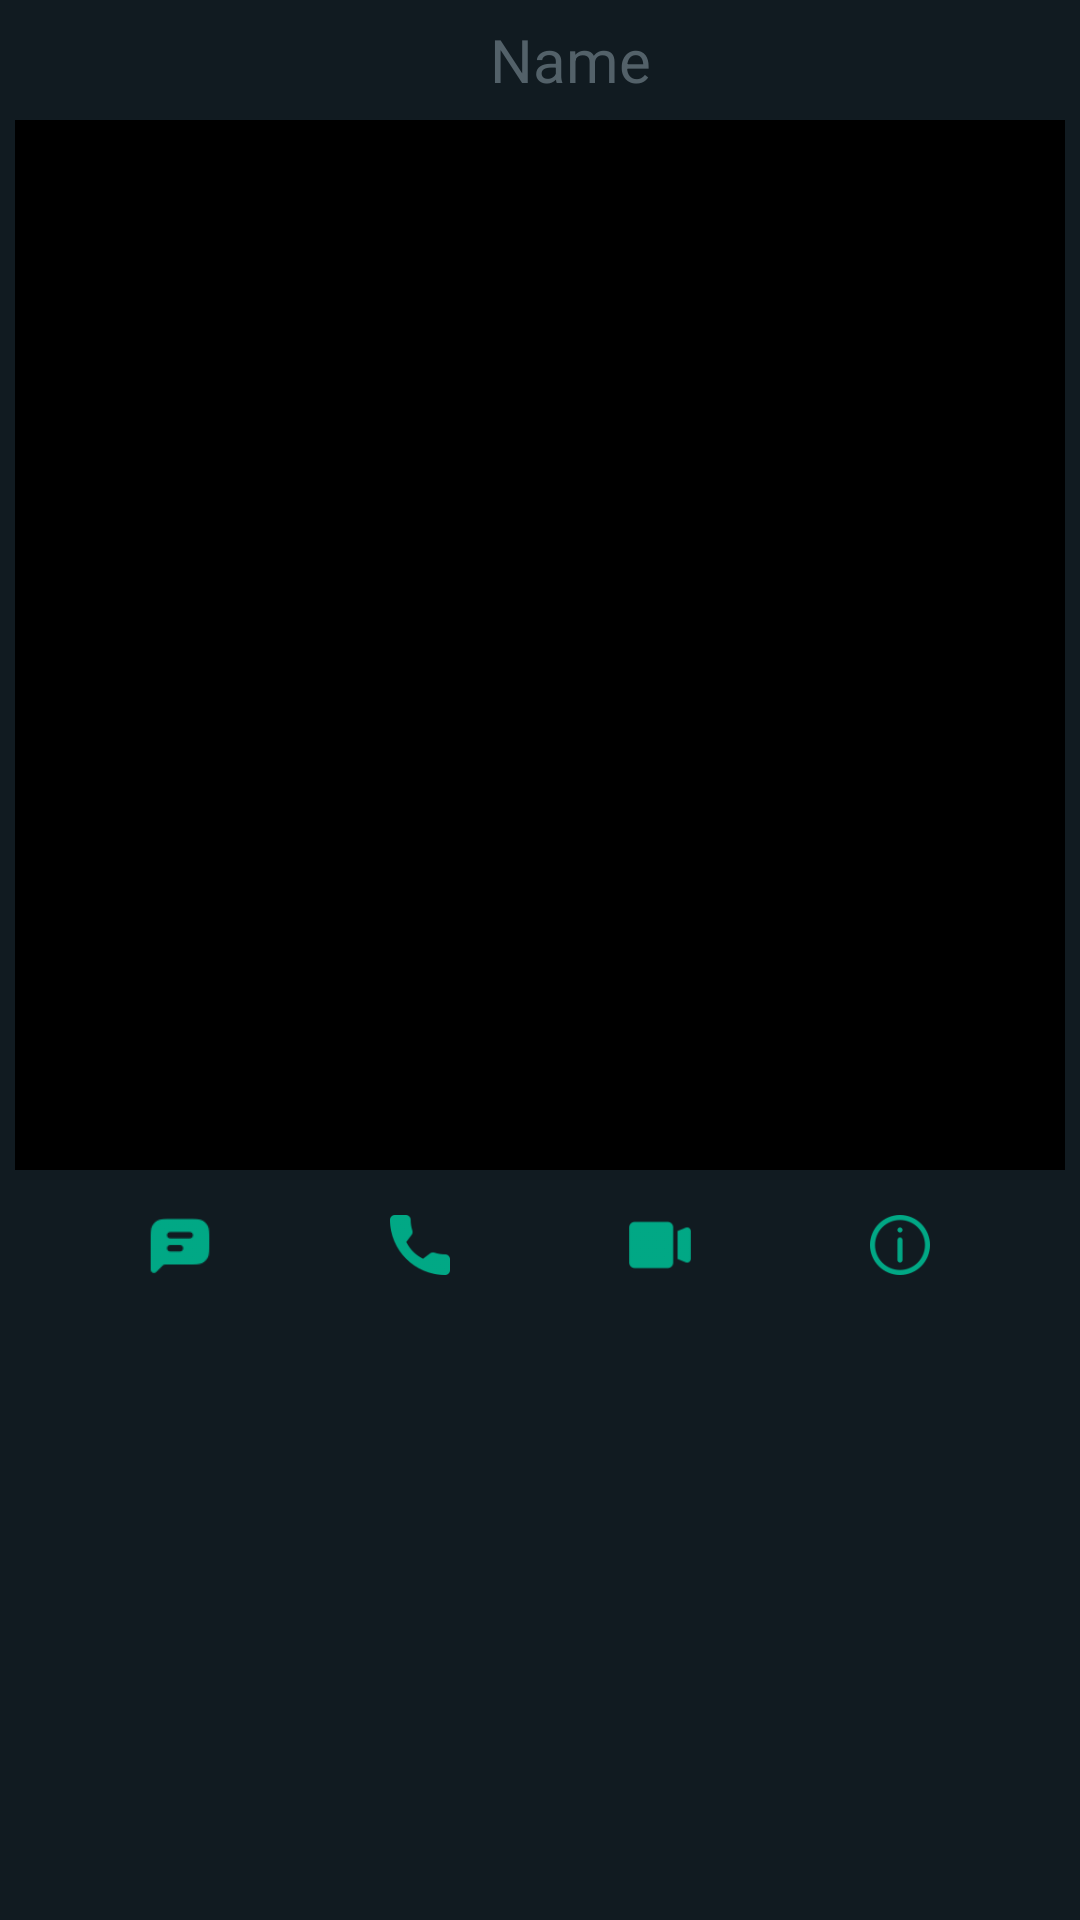

Screen size 1080x1920. Icon name, then its center in pixels as point (x, y):
call: point (420, 1245)
info: point (900, 1245)
message: point (180, 1245)
video call: point (660, 1245)
